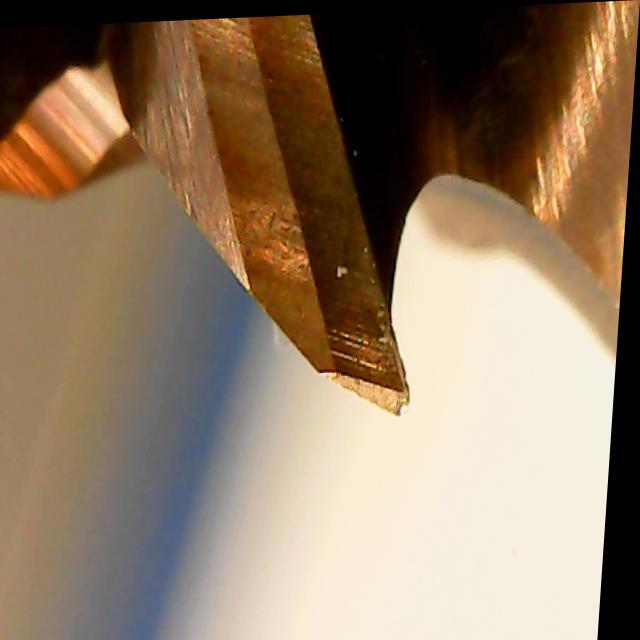Tool-wear-class-1: (261, 214, 426, 421)
